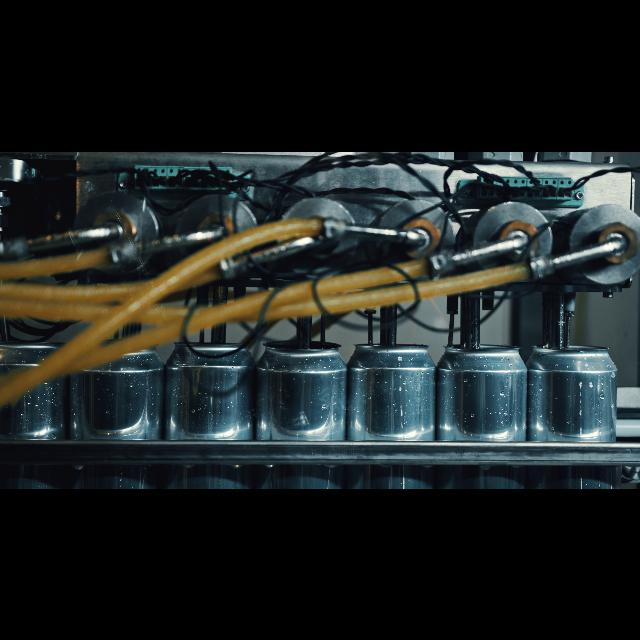empty: (535, 328, 619, 488), (349, 334, 433, 488), (76, 338, 162, 488), (172, 334, 252, 488), (266, 332, 342, 488), (447, 342, 527, 488), (4, 334, 64, 488)
